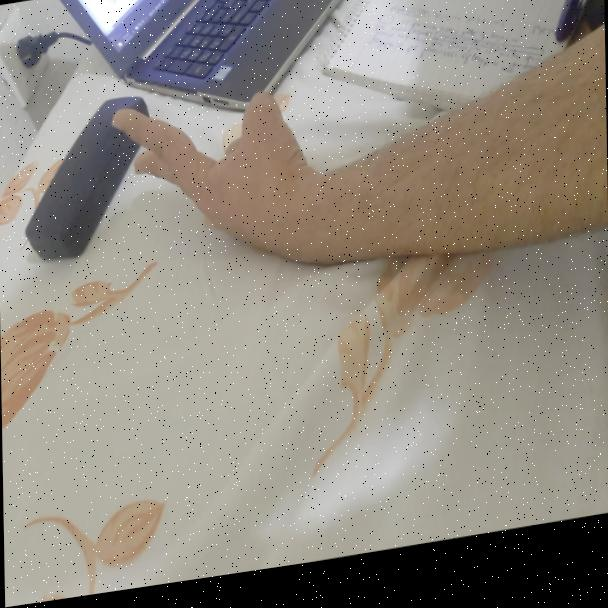two: (68, 78, 308, 304)
